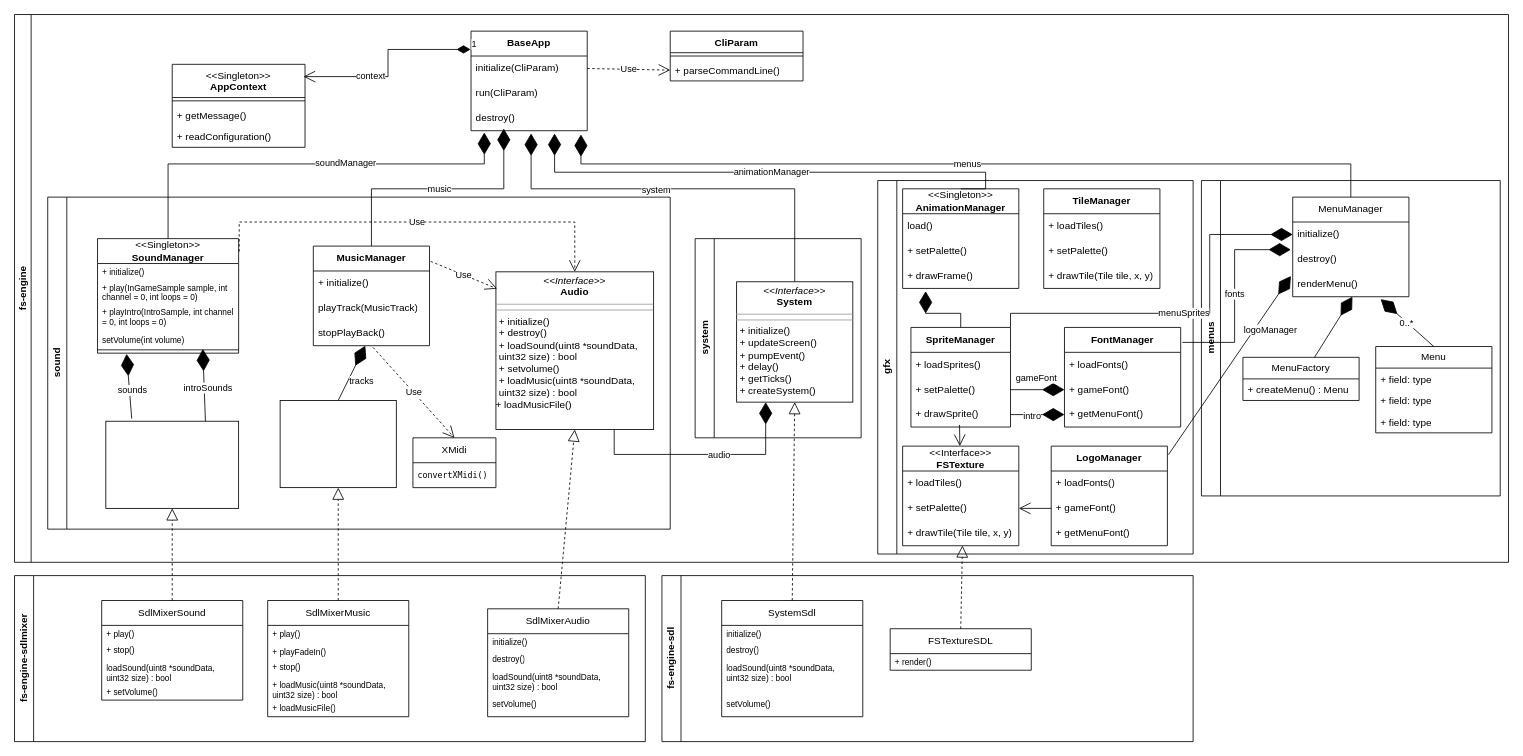
This 1523x756 diagram has some shape labels left out. Here are the shapes that lost their labels. From the top down, the centre of each, then its label:
point 172,464: <<Interface>> Sound + play() + stop() + setvolume()
point 337,444: <<Interface>> Music + play() + playFadeIn() + stop()
